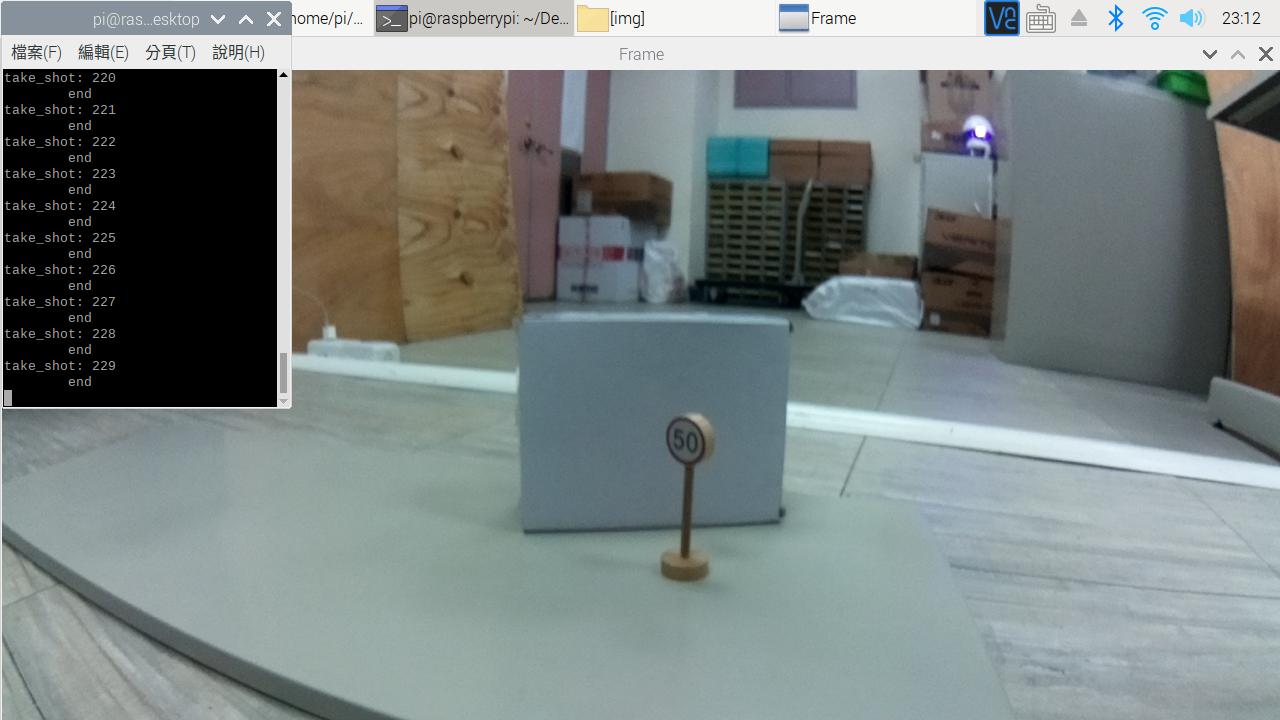Speed50: (655, 404, 724, 491)
